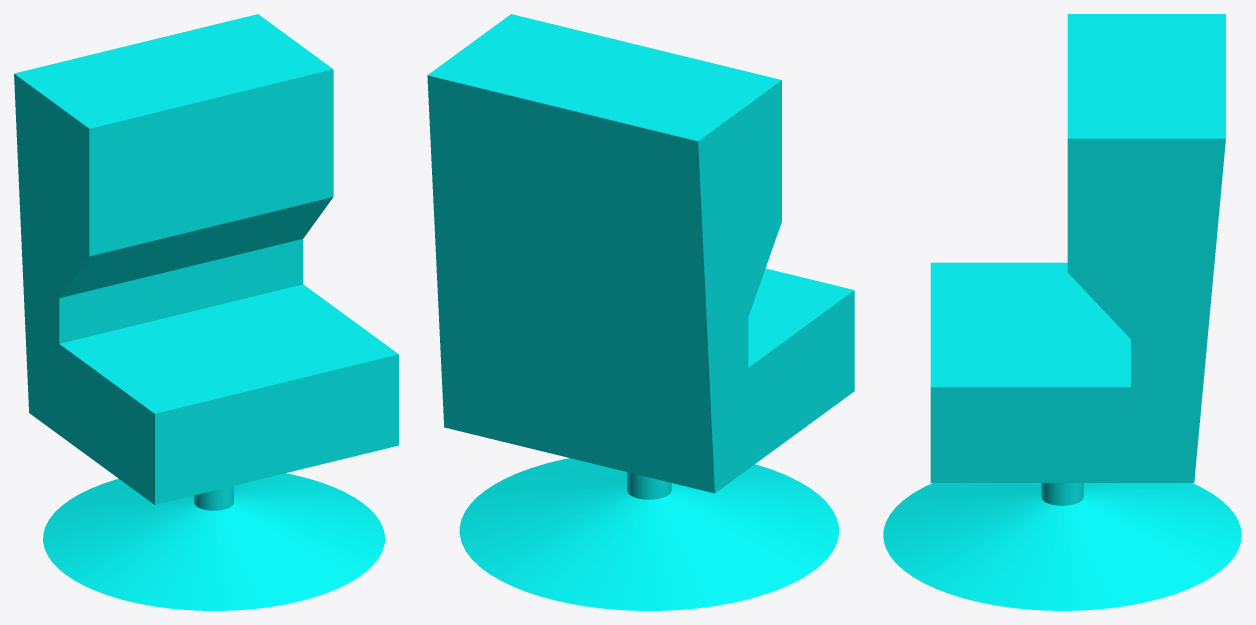
The model's file is wingback_chair_mm.dae.
3 renders of one model, left to right at view 1: azimuth 30°, elevation 25°; view 2: azimuth 150°, elevation 25°; view 3: azimuth 270°, elevation 25°, orthographic. The views are drawn at different scales.
Parts seen in each view (by area): view 1: ac72c1e3-8c41-4a02-9acf-54269ce651be; view 2: ac72c1e3-8c41-4a02-9acf-54269ce651be; view 3: ac72c1e3-8c41-4a02-9acf-54269ce651be.
Part boxes in pixels (x1=…): ac72c1e3-8c41-4a02-9acf-54269ce651be: x1=14, y1=14, x2=398, y2=610; ac72c1e3-8c41-4a02-9acf-54269ce651be: x1=427, y1=14, x2=854, y2=610; ac72c1e3-8c41-4a02-9acf-54269ce651be: x1=883, y1=14, x2=1241, y2=610.
Bounding box in the file's own units: 864 × 864 × 1219.
